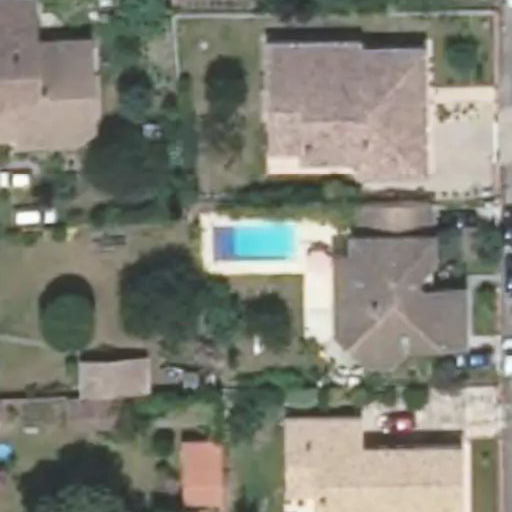pool: (214, 224, 297, 260)
